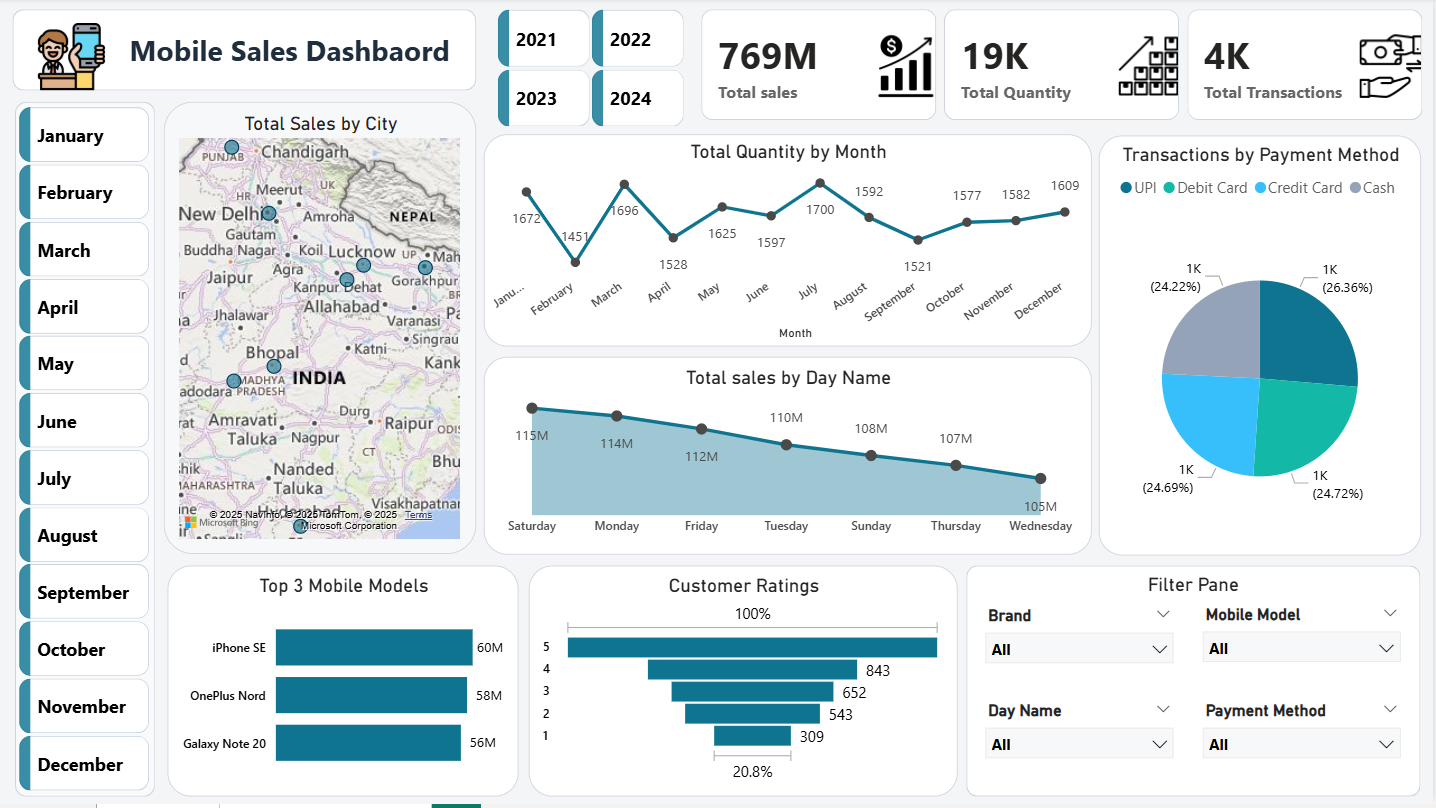

This screenshot's page, from the dashboard's own definition file:
{"tool":"powerbi","page":{"name":"Dashboard","canvas":[1280,720],"ordinal":0},"visuals":[{"type":"shape","box":[11.2,10,529.3,72.6],"z":0},{"type":"map","title":"Total Sales by City","fields":{"Category":["Sales data.City"]},"box":[146.3,92.7,279.2,404.2],"z":1000},{"type":"image","box":[28.8,22.8,69.6,60],"z":2000},{"type":"shape","box":[13.4,92.7,125.1,620.8],"z":3000},{"type":"cardVisual","fields":{"Data":["Sales data.Total sales","Sales data.Total Quantity","Sales data.Total Transactions"]},"box":[550.5,10,719.1,99.4],"z":4000},{"type":"advancedSlicerVisual","fields":{"Values":["Sales data.Date.Variation.Date Hierarchy.Month"]},"box":[12,110.5,126.1,592],"z":5000},{"type":"pieChart","title":"Transactions by Payment Method","fields":{"Category":["Sales data.Payment Method"],"Y":["Sales data.Total Transactions"]},"box":[981.5,120.6,288.1,376.3],"z":6000},{"type":"shape","title":"Filter Pane","box":[863.3,506.7,405.9,206.5],"z":7000},{"type":"lineChart","fields":{"Y":["Sales data.Total Quantity"],"Category":["Sales data.Date.Variation.Date Hierarchy.Month","Sales data.Date.Variation.Date Hierarchy.Day"]},"box":[432.3,120.1,542.7,189.7],"z":8000},{"type":"funnel","title":"Customer Ratings","fields":{"Category":["Sales data.Customer Ratings"],"Y":["CountNonNull(Sales data.Customer Ratings)"]},"box":[471.9,506.7,383,206.5],"z":10000},{"type":"barChart","title":"Top 3 Mobile Models","fields":{"Y":["Sales data.Total sales"],"Category":["Sales data.Mobile Model"]},"box":[150.1,506.7,313.4,206.5],"z":11000},{"type":"slicer","fields":{"Values":["Sales data.Brand"]},"box":[869.3,537.9,188.5,76.8],"z":12000},{"type":"slicer","fields":{"Values":["Sales data.Day Name"]},"box":[869.3,623.2,188.5,76.8],"z":13000},{"type":"slicer","fields":{"Values":["Sales data.Payment Method"]},"box":[1063.9,623.2,196.9,76.8],"z":14000},{"type":"slicer","fields":{"Values":["Sales data.Mobile Model"]},"box":[1063.9,536.7,196.9,76.8],"z":15000},{"type":"lineChart","fields":{"Category":["Sales data.Day Name"],"Y":["Sales data.Total sales"]},"box":[432.3,318.2,542.7,177.7],"z":15500}]}

Visuals, with their boxes in screenshot pixels (x1, y1, x2, y2), scaled from the page's 1280x720 canvas onto the 1436x808 screenshot:
shape: box(13, 11, 606, 93)
"Total Sales by City" map: box(164, 104, 477, 558)
image: box(32, 26, 110, 93)
shape: box(15, 104, 155, 801)
cardVisual - Sales data.Total sales x Sales data.Total Quantity: box(618, 11, 1424, 123)
advancedSlicerVisual - Sales data.Date.Variation.Date Hierarchy.Month: box(13, 124, 155, 788)
"Transactions by Payment Method" pieChart: box(1101, 135, 1424, 558)
"Filter Pane" shape: box(969, 569, 1424, 800)
lineChart - Sales data.Total Quantity x Sales data.Date.Variation.Date Hierarchy.Month: box(485, 135, 1094, 348)
"Customer Ratings" funnel: box(529, 569, 959, 800)
"Top 3 Mobile Models" barChart: box(168, 569, 520, 800)
slicer - Sales data.Brand: box(975, 604, 1187, 690)
slicer - Sales data.Day Name: box(975, 699, 1187, 786)
slicer - Sales data.Payment Method: box(1194, 699, 1414, 786)
slicer - Sales data.Mobile Model: box(1194, 602, 1414, 688)
lineChart - Sales data.Day Name x Sales data.Total sales: box(485, 357, 1094, 557)
